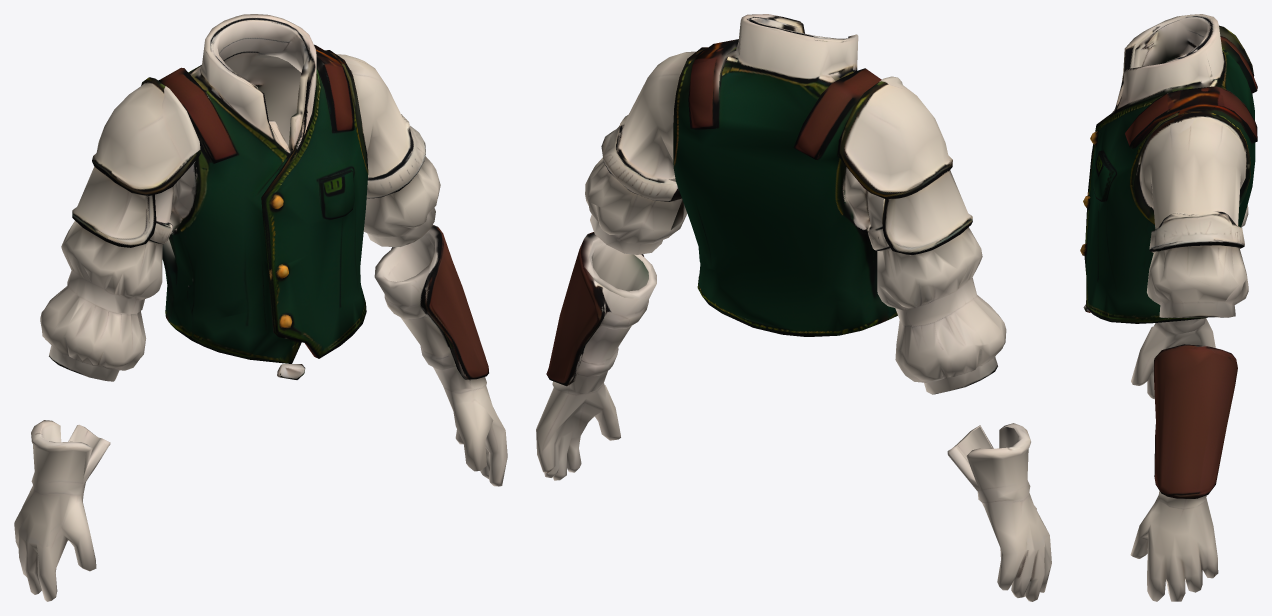
The model's file is RangerShirt.fbx.
3 renders of one model, left to right at view 1: azimuth 30°, elevation 25°; view 2: azimuth 150°, elevation 25°; view 3: azimuth 270°, elevation 25°, orthographic. The views are drawn at different scales.
Parts seen in each view (by area): view 1: texture_pbr_v128; view 2: texture_pbr_v128; view 3: texture_pbr_v128.
Boxes of the visible parts, left/top/right/bottom form: texture_pbr_v128: left=14, top=14, right=507, bottom=601; texture_pbr_v128: left=536, top=14, right=1051, bottom=601; texture_pbr_v128: left=1080, top=14, right=1257, bottom=601.
Size of the model in its own units: 46.9 by 47.97 by 16.26.
1 material, 1 textured.
